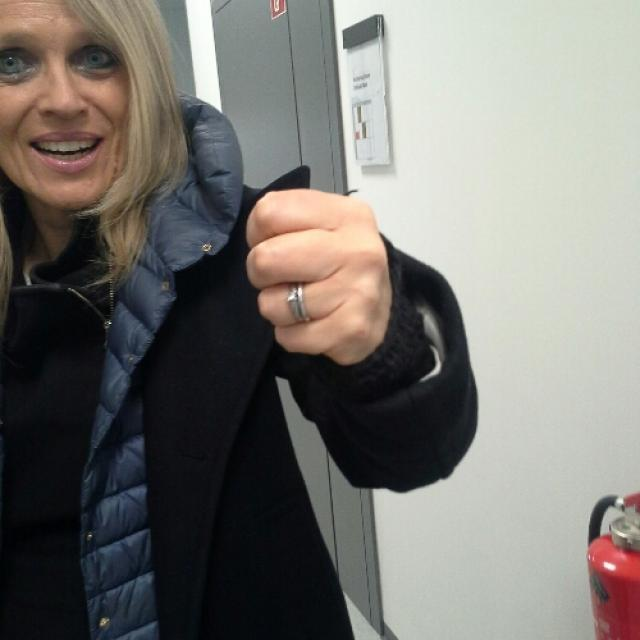rock: (245, 185, 384, 358)
